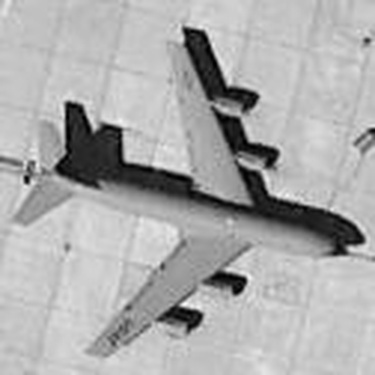airplane: (13, 11, 366, 368)
